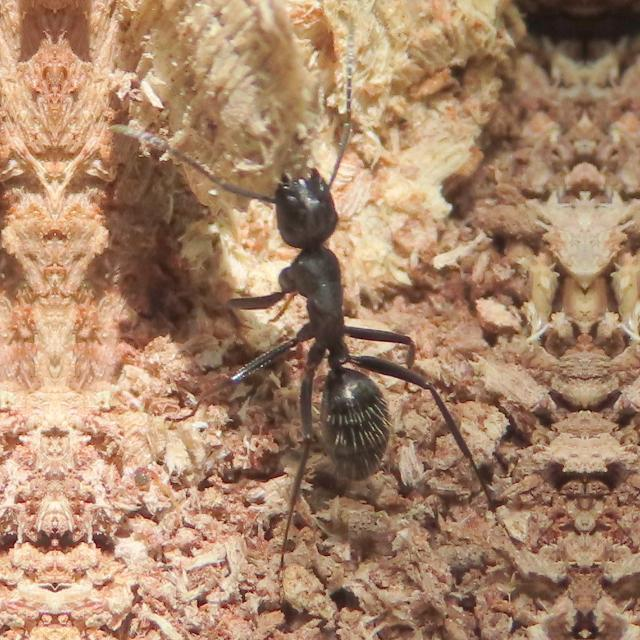Camponotus: (220, 118, 440, 512)
